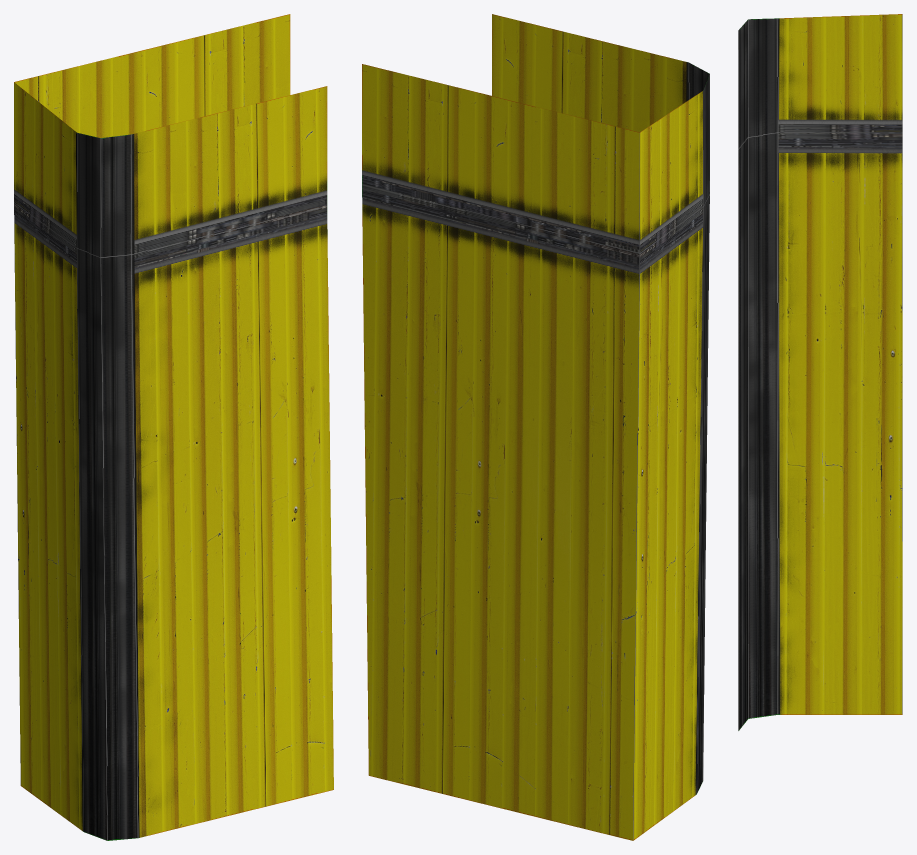
File: Gate001-2.fbx
The picture shows the model from 3 angles, left to right: view 1: azimuth 30°, elevation 25°; view 2: azimuth 150°, elevation 25°; view 3: azimuth 270°, elevation 25°; orthographic projection.
Visible parts, largest first — view 1: Gate001-2; view 2: Gate001-2; view 3: Gate001-2.
Part boxes in pixels (box(x1,y1,x2,y2)): Gate001-2: box(14, 14, 333, 840); Gate001-2: box(362, 14, 709, 840); Gate001-2: box(738, 14, 902, 730).
Size of the model in its own units: 60.96 by 149 by 31.79.
Materials: 1 (1 with a texture image).
